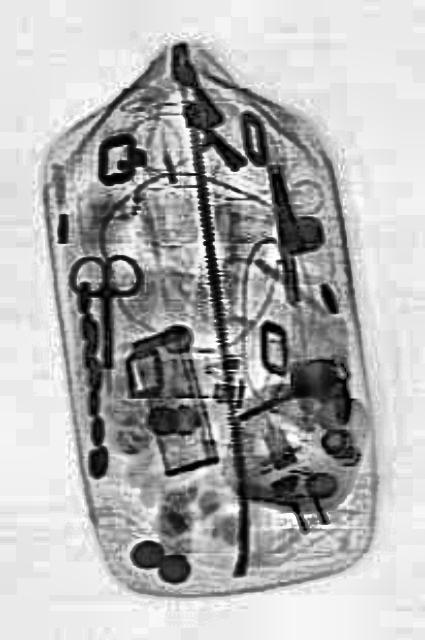Scissors: (66, 250, 142, 368)
